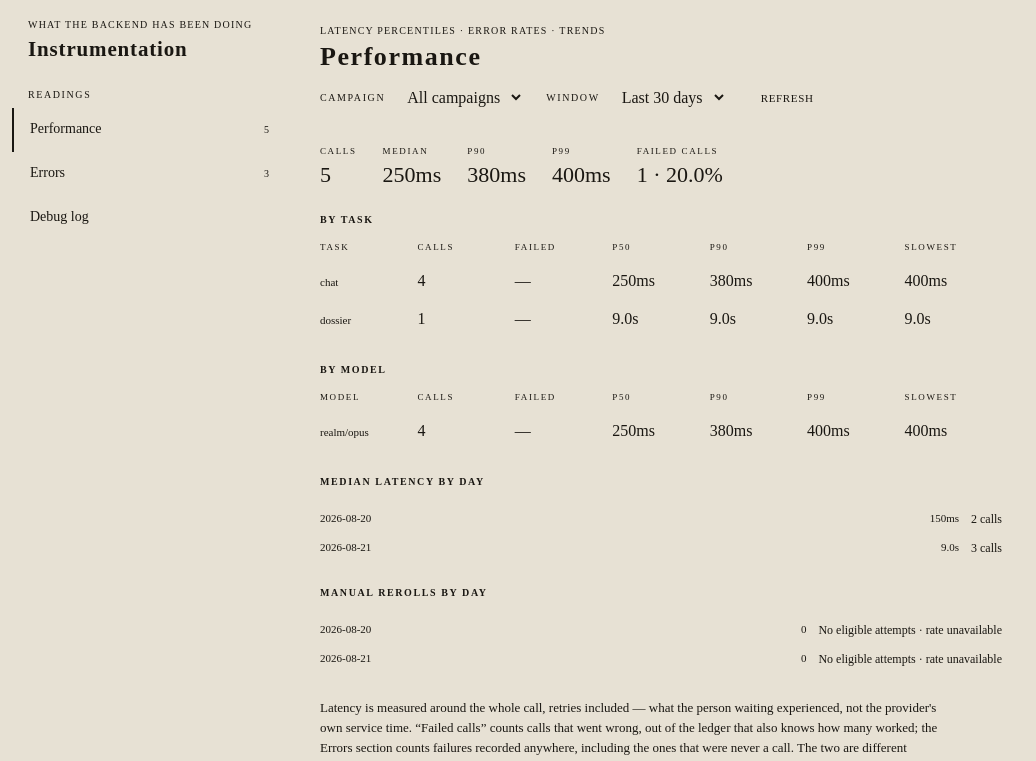
Test: aggregates errors per module, with each module's own kinds
Expected: the heading "Performance" is shown, x1=320 y1=42 x2=482 y2=70
Step 1. Click the button "Errors 3" → (48, 173), box x1=12 y1=152 x2=286 y2=196
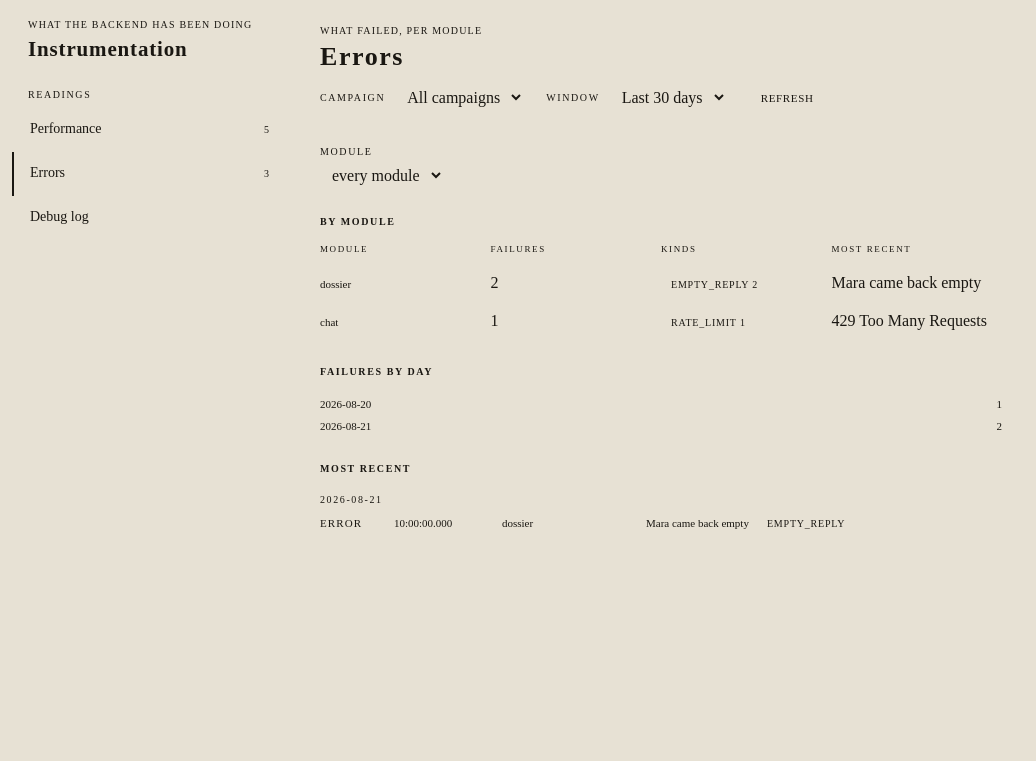
Now the text "empty_reply 2" is shown, box x1=671 y1=279 x2=758 y2=290
Now the text "Mara came back empty" is shown, box x1=832 y1=264 x2=1002 y2=302
